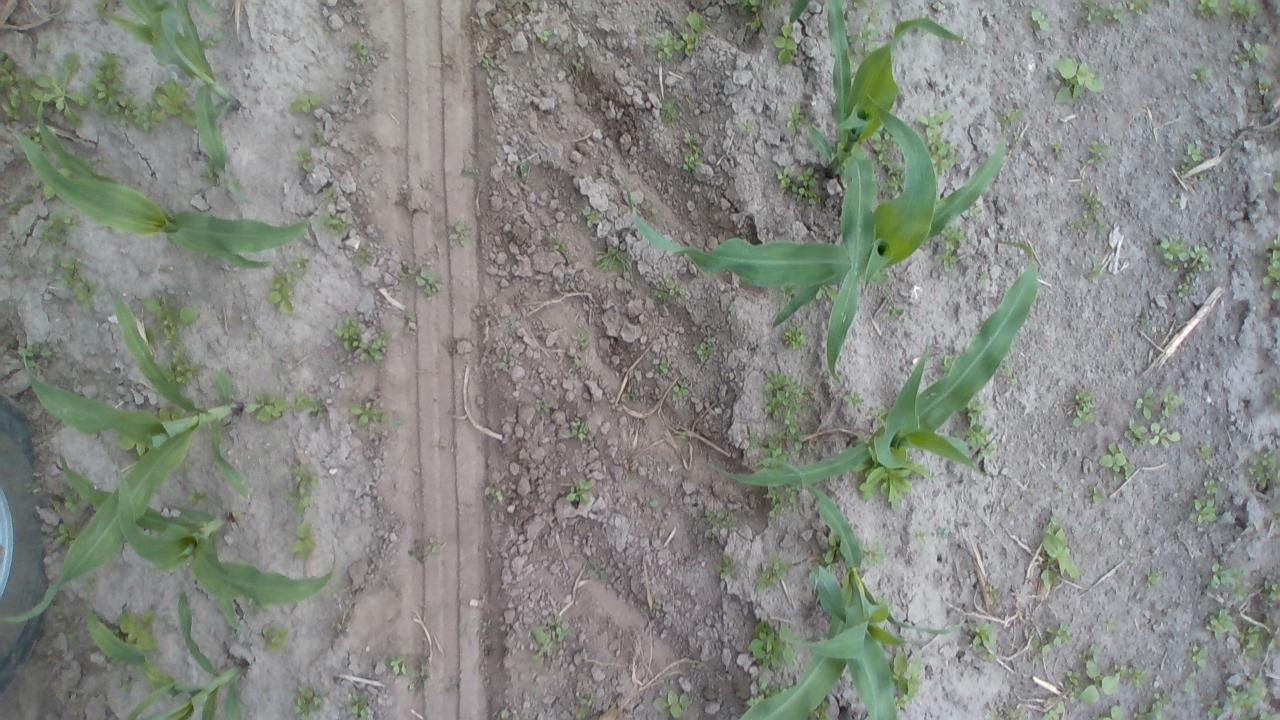Maize: (3, 289, 265, 625), (710, 238, 1042, 487), (630, 136, 1008, 329), (804, 0, 985, 384), (738, 458, 962, 720), (13, 91, 308, 268), (59, 455, 338, 604), (100, 0, 243, 171), (86, 592, 254, 720), (128, 680, 177, 720), (788, 0, 809, 23)
Weeds: (91, 48, 196, 128), (30, 50, 90, 124), (1156, 237, 1212, 299), (860, 461, 930, 510), (761, 369, 808, 434), (1042, 514, 1082, 590), (49, 253, 100, 308), (920, 111, 957, 179), (1, 55, 36, 124), (1060, 185, 1105, 238), (749, 620, 794, 672), (1054, 60, 1106, 103), (1028, 618, 1072, 668), (1229, 677, 1278, 720), (161, 320, 194, 382), (963, 399, 999, 454), (1043, 669, 1081, 720), (752, 552, 797, 595), (774, 164, 823, 202), (732, 0, 786, 33), (891, 652, 924, 706), (849, 1, 886, 47), (1083, 660, 1120, 704), (120, 608, 158, 650), (242, 393, 290, 424), (742, 430, 791, 460), (1191, 473, 1218, 525), (148, 298, 202, 324), (1062, 388, 1096, 428), (934, 226, 962, 272), (1230, 38, 1270, 70), (1250, 447, 1280, 488), (656, 28, 695, 58), (40, 214, 83, 241), (1098, 442, 1132, 476), (289, 464, 314, 510), (704, 510, 737, 544), (270, 270, 295, 314), (294, 685, 327, 718), (966, 622, 996, 658), (770, 26, 799, 63), (294, 391, 328, 421), (1209, 560, 1239, 593), (1206, 606, 1236, 638), (261, 622, 291, 654), (1130, 694, 1168, 719), (594, 246, 632, 270), (349, 401, 384, 427), (652, 692, 688, 717), (1180, 142, 1208, 174), (530, 624, 554, 659), (651, 278, 683, 303), (1148, 423, 1180, 448), (336, 316, 360, 349), (1086, 136, 1110, 168), (872, 132, 894, 166), (292, 520, 314, 554), (784, 101, 808, 132), (659, 93, 683, 124), (546, 614, 574, 640), (1114, 662, 1147, 684), (1268, 228, 1280, 288), (1076, 1, 1102, 28), (1122, 417, 1147, 445), (681, 144, 703, 174), (780, 326, 807, 350), (349, 689, 372, 717), (1226, 0, 1256, 21), (368, 333, 391, 360), (288, 93, 318, 113), (1160, 389, 1182, 416), (1190, 64, 1215, 86), (415, 272, 440, 294), (1242, 627, 1262, 654), (684, 10, 706, 34), (566, 480, 590, 502), (448, 218, 470, 242), (96, 0, 118, 23), (986, 708, 1028, 720), (763, 488, 781, 516), (1194, 0, 1220, 19), (886, 164, 904, 191), (1190, 643, 1210, 667), (1103, 4, 1127, 24), (1138, 390, 1154, 420), (998, 361, 1018, 385), (824, 536, 840, 564), (51, 496, 79, 512), (863, 545, 884, 566), (1193, 442, 1215, 462), (54, 524, 76, 544), (353, 248, 376, 267), (692, 344, 716, 362), (571, 417, 588, 442), (1086, 484, 1106, 504), (720, 555, 734, 583), (1103, 705, 1128, 720), (204, 29, 223, 48), (1002, 107, 1022, 125), (673, 380, 691, 400), (884, 305, 906, 321), (349, 38, 369, 55), (1264, 582, 1280, 603), (50, 602, 66, 622), (1128, 0, 1152, 13), (388, 658, 407, 674), (559, 244, 574, 264), (320, 187, 340, 202), (298, 142, 313, 162), (186, 487, 204, 503), (986, 582, 1001, 601), (1206, 699, 1220, 719), (16, 345, 41, 356), (1031, 10, 1046, 28), (324, 214, 342, 229), (1081, 644, 1097, 660), (482, 52, 498, 68), (739, 120, 754, 136), (659, 356, 674, 372), (844, 393, 862, 406), (1254, 78, 1268, 94), (294, 256, 309, 270), (1084, 267, 1100, 280), (1147, 571, 1161, 585), (537, 30, 551, 44), (82, 577, 95, 592), (1050, 144, 1064, 157), (912, 530, 927, 542), (588, 209, 599, 224), (939, 357, 952, 369), (574, 62, 586, 74), (1106, 615, 1116, 629), (500, 356, 510, 370), (783, 486, 798, 495), (578, 337, 590, 348), (8, 206, 22, 214), (1272, 384, 1280, 398), (574, 357, 583, 369), (1168, 194, 1178, 204), (1008, 504, 1018, 514), (494, 490, 503, 500), (1054, 482, 1062, 492)
